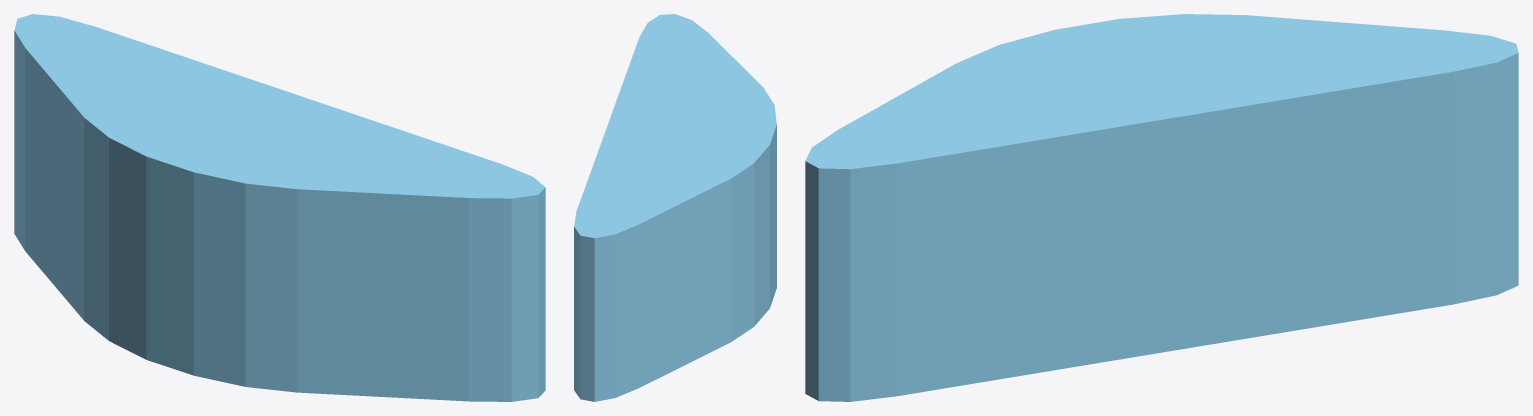
The model's file is Barrera1.obj.
The picture shows the model from 3 angles, left to right: view 1: azimuth 30°, elevation 25°; view 2: azimuth 150°, elevation 25°; view 3: azimuth 270°, elevation 25°; orthographic projection. The views are drawn at different scales.
Visible parts, largest first — view 1: Plane_Plane_008; view 2: Plane_Plane_008; view 3: Plane_Plane_008.
Part boxes in pixels (x1,y1,x2,y2): Plane_Plane_008: (14,14,545,401); Plane_Plane_008: (574,14,776,401); Plane_Plane_008: (805,14,1518,401).
Size of the model in its own units: 0.0572 by 0.04 by 0.1111.
Materials: 1 (1 with a texture image).
